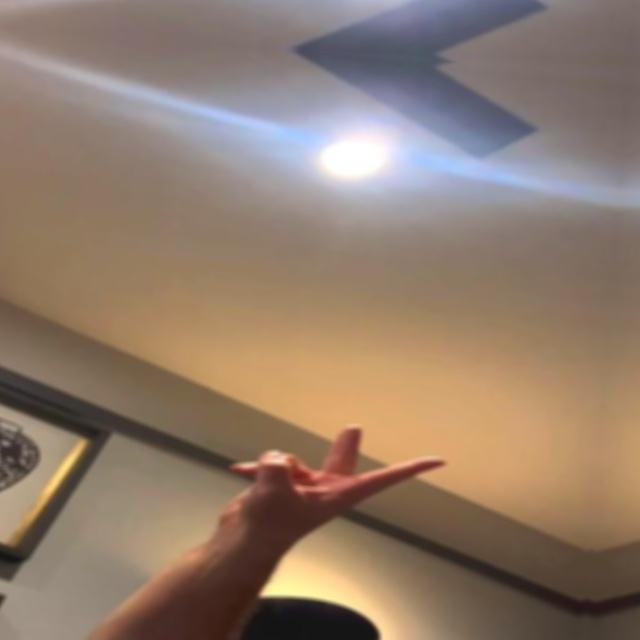Scissors: (215, 409, 452, 573)
